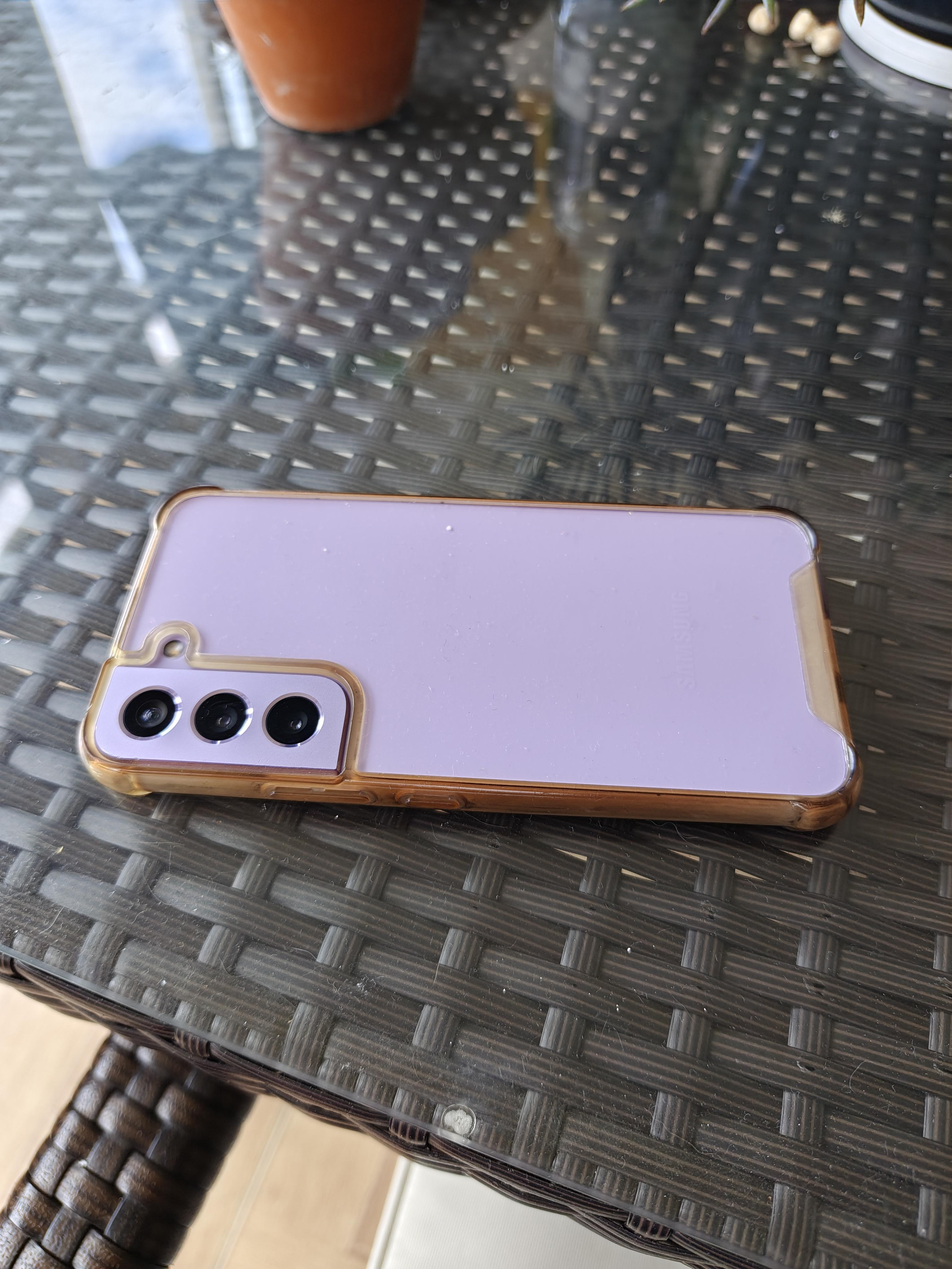smartphone: (77, 486, 863, 833)
